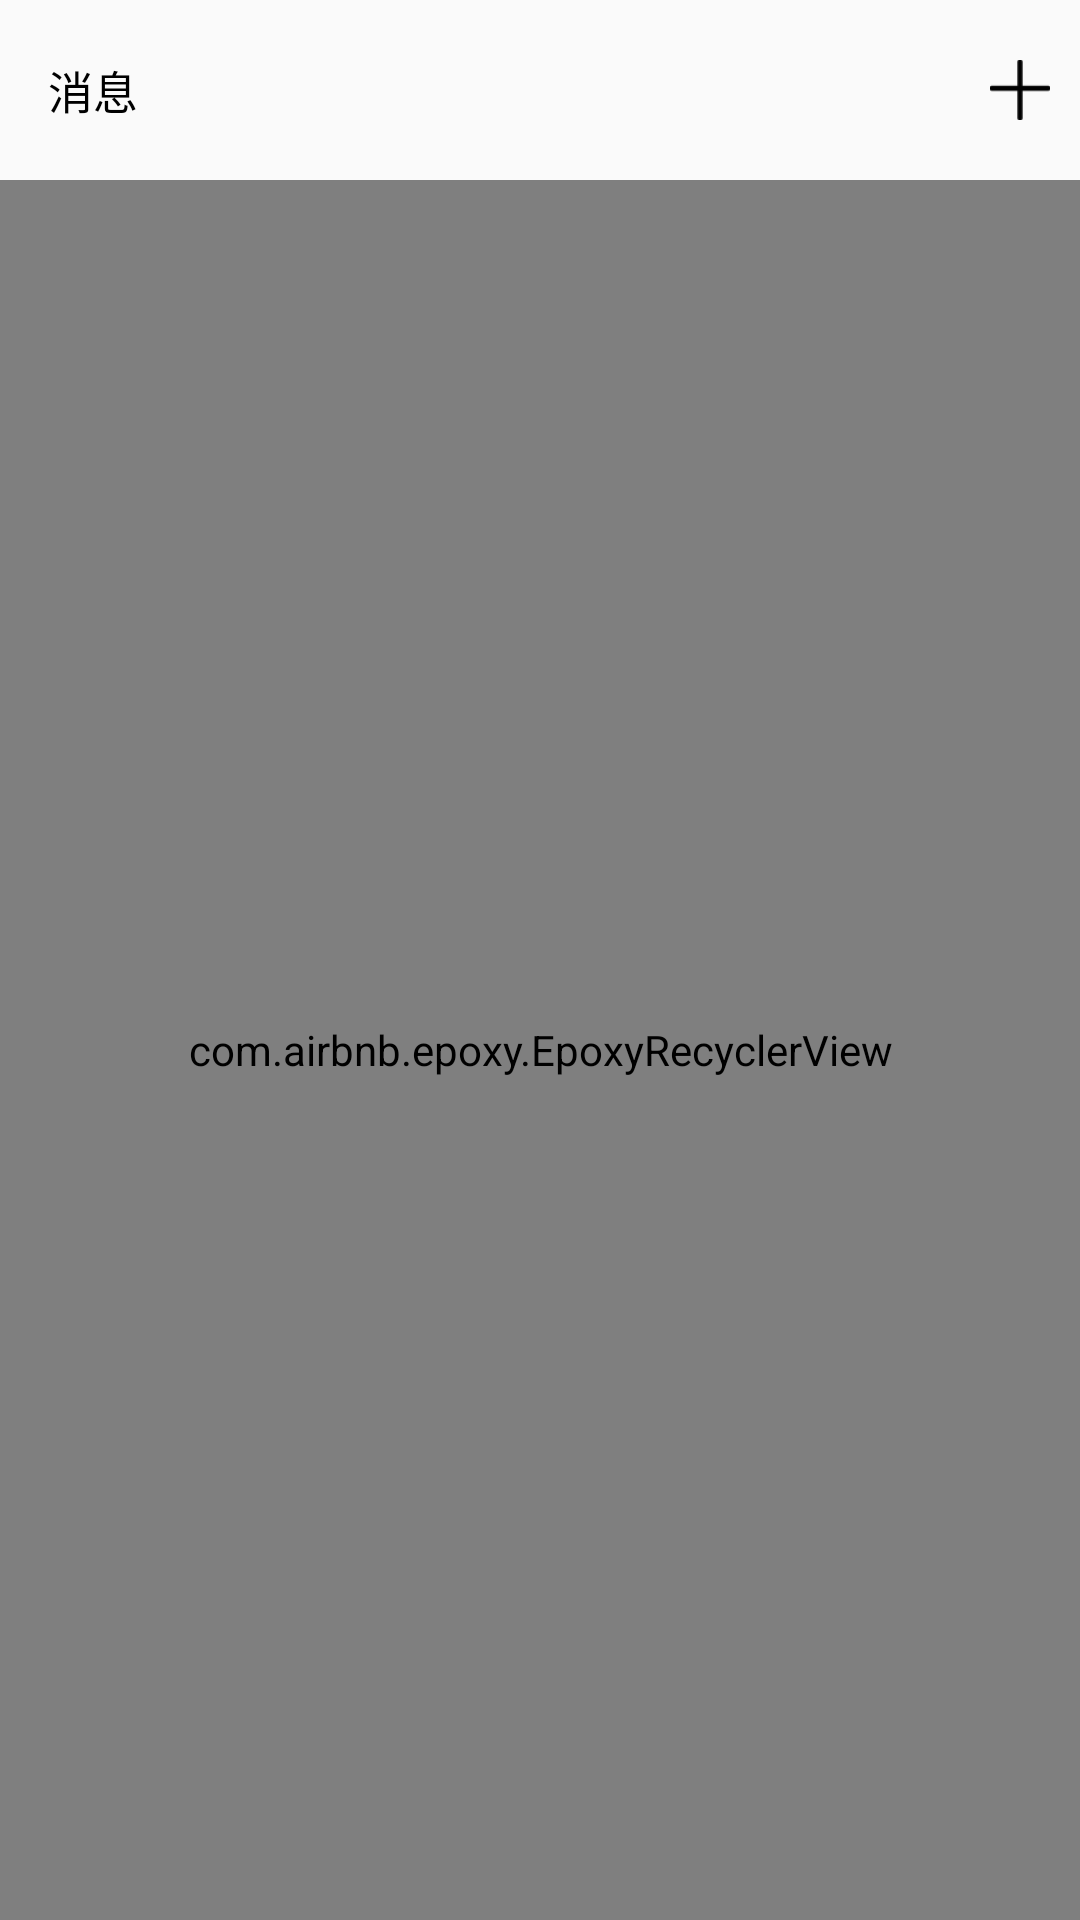

Named icons in this screenshot (1080x1920) and their bounding boxes, (x1, y1, x2, y2):
add: (990, 60, 1050, 120)
